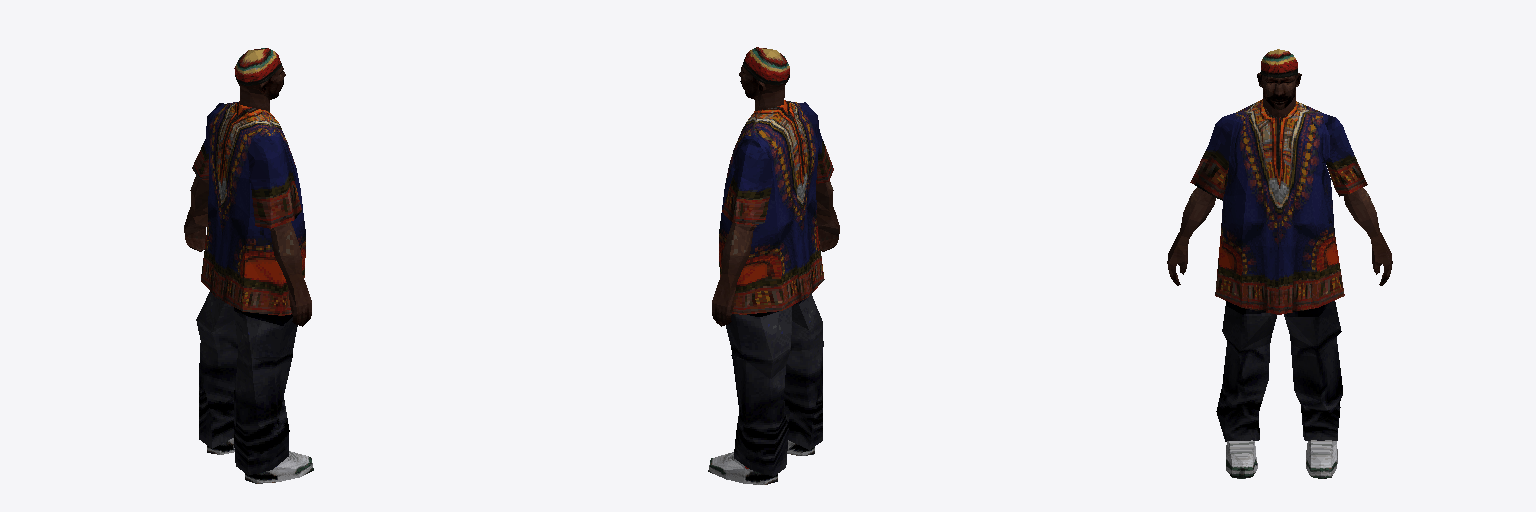
3 views of the same model, side by side, from view 1: azimuth 30°, elevation 25°; view 2: azimuth 150°, elevation 25°; view 3: azimuth 270°, elevation 25° (orthographic).
Visible parts, largest first — view 1: _Pelvis; view 2: _Pelvis; view 3: _Pelvis.
Boxes of the visible parts, <box> form: _Pelvis: <box>184,48,313,483</box>; _Pelvis: <box>708,47,839,484</box>; _Pelvis: <box>1167,49,1392,478</box>.
Size of the model in its own units: 0.3851 by 1.88 by 0.9308.
Materials: 1 (1 with a texture image).